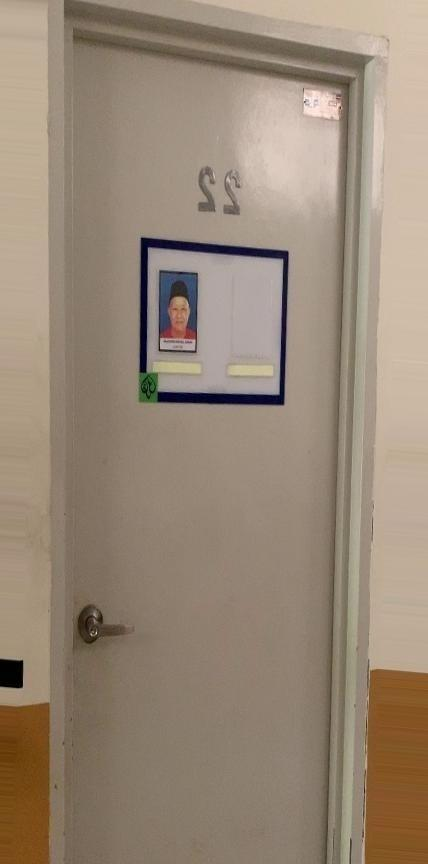door: (45, 13, 367, 864)
